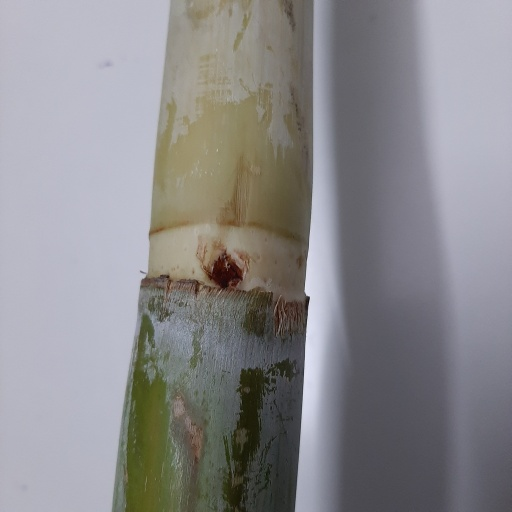Damage_Bud: (211, 249, 246, 289)
